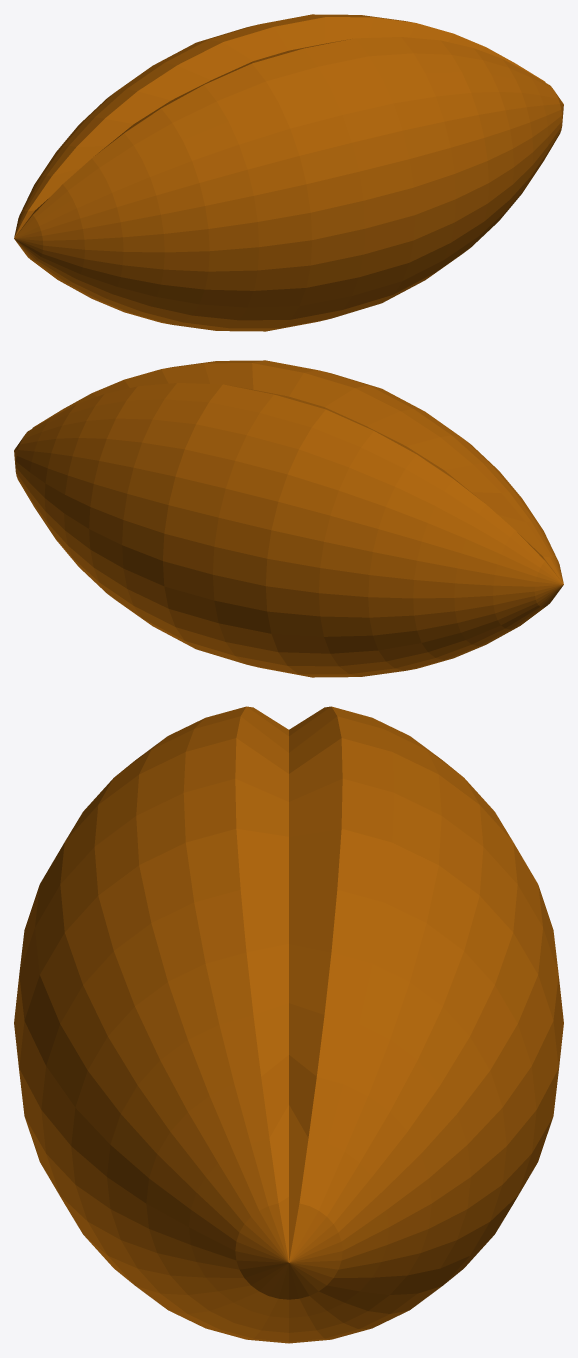
File: Malt001.fbx
3 renders of one model, top to bottom at view 1: azimuth 30°, elevation 25°; view 2: azimuth 150°, elevation 25°; view 3: azimuth 270°, elevation 25°, orthographic. The views are drawn at different scales.
Visible parts, largest first — view 1: Malt; view 2: Malt; view 3: Malt.
Boxes of the visible parts, box(x1,y1,x2,y2) form: Malt: box(14, 14, 563, 331); Malt: box(14, 360, 563, 677); Malt: box(14, 706, 563, 1343).
Size of the model in its own units: 1.04 by 0.4952 by 0.5.
